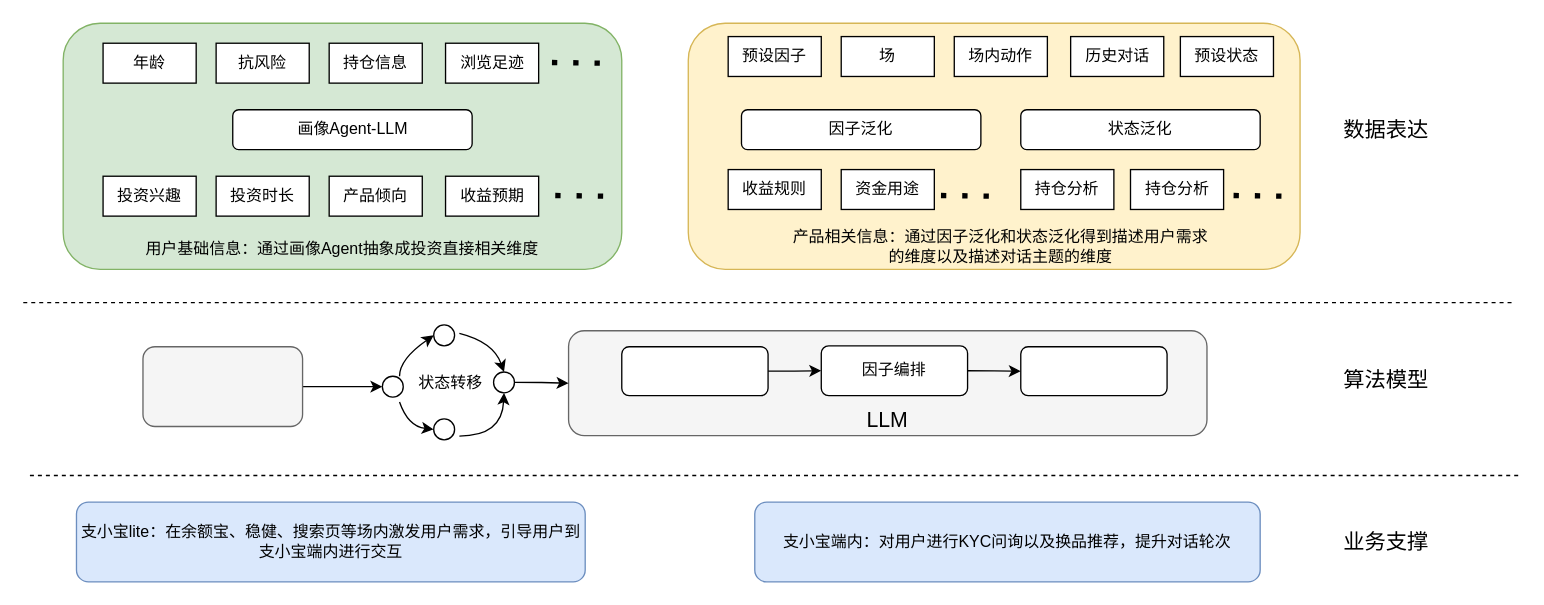
The diagram is 1544 pixels wide and 605 high, and some of its shapes have lost their labels. Here are the shapes that lost their labels. From the top down, the centre of each, then its label:
(222,386): 状态分类
(694,370): 基于状态的策划
(1093,370): 承接语和query生成
